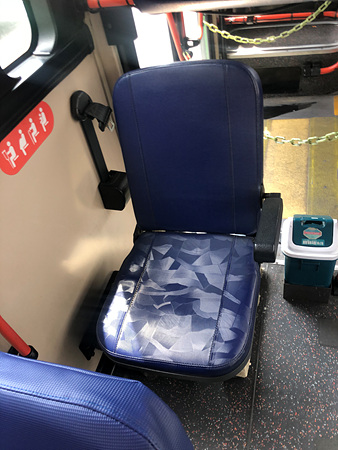seat: (96, 69, 269, 369)
